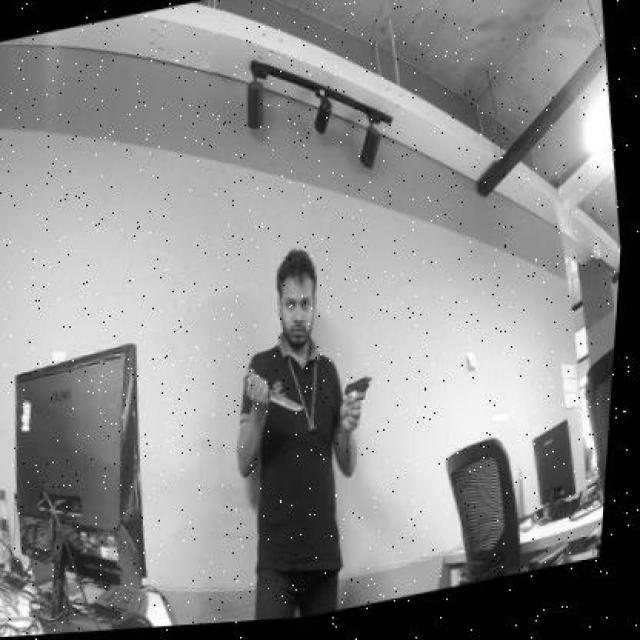weapon: (343, 374, 374, 408)
